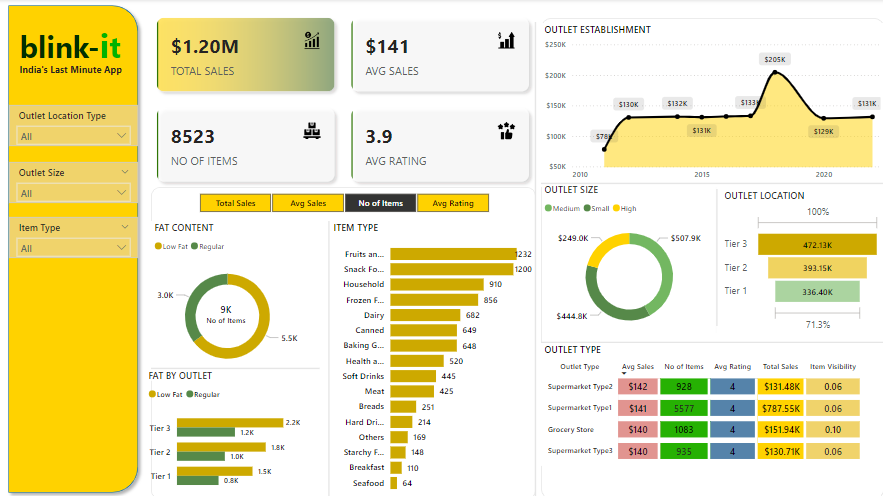

The dashboard page shown, as its layout file describes it:
{"tool":"powerbi","page":{"name":"Page 1","canvas":[1280,720],"ordinal":0},"visuals":[{"type":"shape","box":[10,0,205,720],"z":0},{"type":"textbox","box":[30.2,26.9,162.9,75.6],"z":1000},{"type":"textbox","box":[30.2,87.3,181.4,30.2],"z":2000},{"type":"cardVisual","fields":{"Data":["BlinkIT Grocery Data.Total Sales","BlinkIT Grocery Data.Avg Sales","BlinkIT Grocery Data.No of Items","BlinkIT Grocery Data.Avg Rating"]},"box":[215.7,10,570,270],"z":3000},{"type":"shape","box":[224.3,270,554.3,450],"z":4000},{"type":"donutChart","title":"FAT CONTENT","fields":{"Y":["BlinkIT Grocery Data.No of Items"],"Category":["BlinkIT Grocery Data.Item Fat Content"]},"box":[224.3,320,220,230],"z":5000},{"type":"slicer","fields":{"Values":["Metrics.Metrics"]},"box":[268.6,274.3,465.7,40],"z":6000},{"type":"cardVisual","fields":{"Data":["BlinkIT Grocery Data.No of Items"]},"box":[275.7,420,115.7,60],"z":7000},{"type":"clusteredBarChart","title":"FAT BY OUTLET","fields":{"Y":["BlinkIT Grocery Data.No of Items"],"Category":["BlinkIT Grocery Data.Outlet Location Type"],"Series":["BlinkIT Grocery Data.Item Fat Content"]},"box":[215.7,532.9,228.6,187.1],"z":8000},{"type":"shape","box":[224.3,517.1,242.9,30],"z":9000},{"type":"shape","box":[1032.9,265.7,12.9,214.3],"z":10000},{"type":"barChart","title":"ITEM TYPE","fields":{"Y":["BlinkIT Grocery Data.No of Items"],"Category":["BlinkIT Grocery Data.Item Type"]},"box":[482.9,320,295.7,400],"z":11000},{"type":"shape","box":[785.7,27.1,494.3,692.9],"z":12000},{"type":"shape","box":[770,32.9,15.7,687.1],"z":13000},{"type":"lineChart","title":"OUTLET ESTABLISHMENT","fields":{"Y":["BlinkIT Grocery Data.Total Sales"],"Category":["BlinkIT Grocery Data.Outlet Establishment Year"]},"box":[785.7,34.3,494.3,235.7],"z":14000},{"type":"shape","box":[785.7,250,494.3,30],"z":15000},{"type":"donutChart","title":"OUTLET SIZE","fields":{"Y":["BlinkIT Grocery Data.Total Sales"],"Category":["BlinkIT Grocery Data.Outlet Size"]},"box":[785.7,264.3,254.3,225.7],"z":16000},{"type":"shape","box":[1025.7,274.3,28.6,197.1],"z":17000},{"type":"shape","box":[467.1,320,28.6,400],"z":18000},{"type":"funnel","title":"OUTLET LOCATION","fields":{"Y":["Sum(BlinkIT Grocery Data.Sales)"],"Category":["BlinkIT Grocery Data.Outlet Location Type"]},"box":[1045.7,274.3,234.3,210],"z":19000},{"type":"shape","box":[785.7,480,494.3,30],"z":20000},{"type":"pivotTable","title":"OUTLET TYPE","fields":{"Rows":["BlinkIT Grocery Data.Outlet Type"],"Values":["BlinkIT Grocery Data.Avg Sales","BlinkIT Grocery Data.No of Items","BlinkIT Grocery Data.Avg Rating","BlinkIT Grocery Data.Total Sales","Avg(BlinkIT Grocery Data.Item Visibility)"]},"box":[785.7,495.7,494.3,177.1],"z":21000},{"type":"slicer","fields":{"Values":["BlinkIT Grocery Data.Outlet Location Type"]},"box":[20,152.9,185.7,58.6],"z":21001},{"type":"slicer","fields":{"Values":["BlinkIT Grocery Data.Outlet Size"]},"box":[20,234.3,185.7,58.6],"z":21002},{"type":"slicer","fields":{"Values":["BlinkIT Grocery Data.Item Type"]},"box":[20,314.3,185.7,58.6],"z":21003}]}

Visuals, with their boxes in screenshot pixels (x1, y1, x2, y2), scaled from the page's 1280x720 canvas onto the 883x496 screenshot:
shape: box=[7, 0, 148, 495]
textbox: box=[21, 19, 133, 71]
textbox: box=[21, 60, 146, 81]
cardVisual - BlinkIT Grocery Data.Total Sales x BlinkIT Grocery Data.Avg Sales: box=[149, 7, 542, 193]
shape: box=[155, 186, 537, 495]
"FAT CONTENT" donutChart: box=[155, 220, 306, 379]
slicer - Metrics.Metrics: box=[185, 189, 507, 217]
cardVisual - BlinkIT Grocery Data.No of Items: box=[190, 289, 270, 331]
"FAT BY OUTLET" clusteredBarChart: box=[149, 367, 306, 495]
shape: box=[155, 356, 322, 377]
shape: box=[713, 183, 721, 331]
"ITEM TYPE" barChart: box=[333, 220, 537, 495]
shape: box=[542, 19, 882, 495]
shape: box=[531, 23, 542, 495]
"OUTLET ESTABLISHMENT" lineChart: box=[542, 24, 882, 186]
shape: box=[542, 172, 882, 193]
"OUTLET SIZE" donutChart: box=[542, 182, 717, 338]
shape: box=[708, 189, 727, 325]
shape: box=[322, 220, 342, 495]
"OUTLET LOCATION" funnel: box=[721, 189, 882, 334]
shape: box=[542, 331, 882, 351]
"OUTLET TYPE" pivotTable: box=[542, 341, 882, 463]
slicer - BlinkIT Grocery Data.Outlet Location Type: box=[14, 105, 142, 146]
slicer - BlinkIT Grocery Data.Outlet Size: box=[14, 161, 142, 202]
slicer - BlinkIT Grocery Data.Item Type: box=[14, 217, 142, 257]
